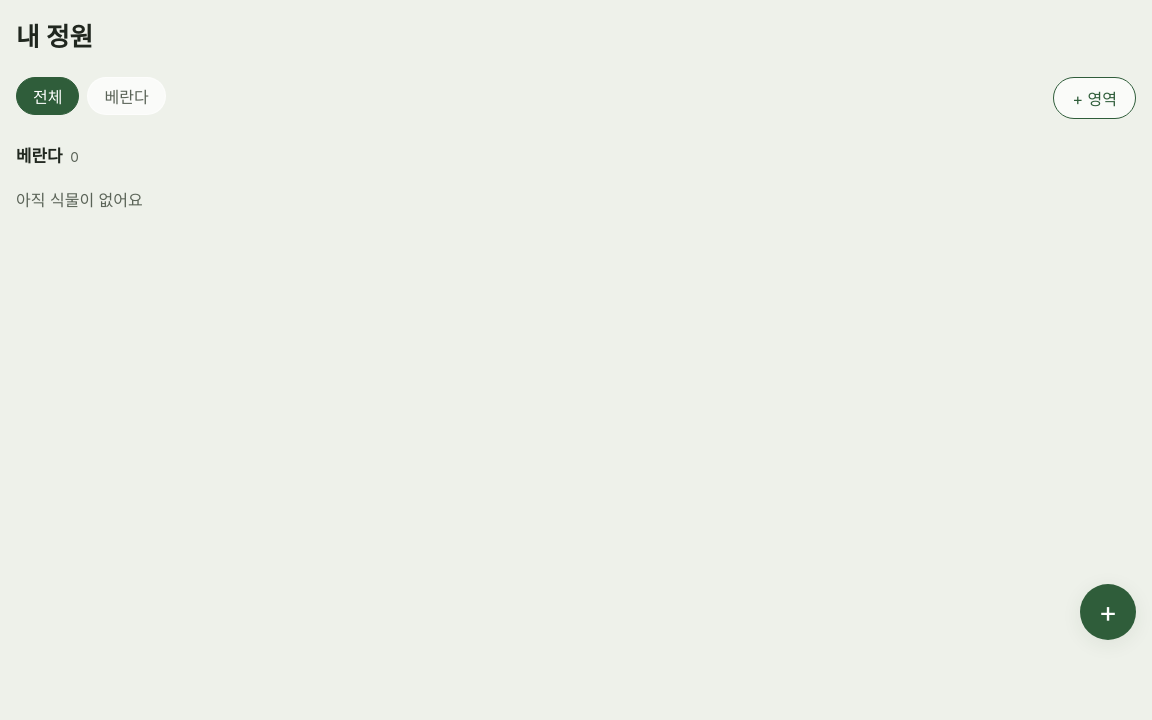
Test case: GardenView › 영역이 있으면 FAB로 식물을 추가해 카드가 나타난다
The image size is (1152, 720).
Click the button named "식물 추가" at x=1108, y=612, box top-left (1080, 584), bottom-right (1136, 640)
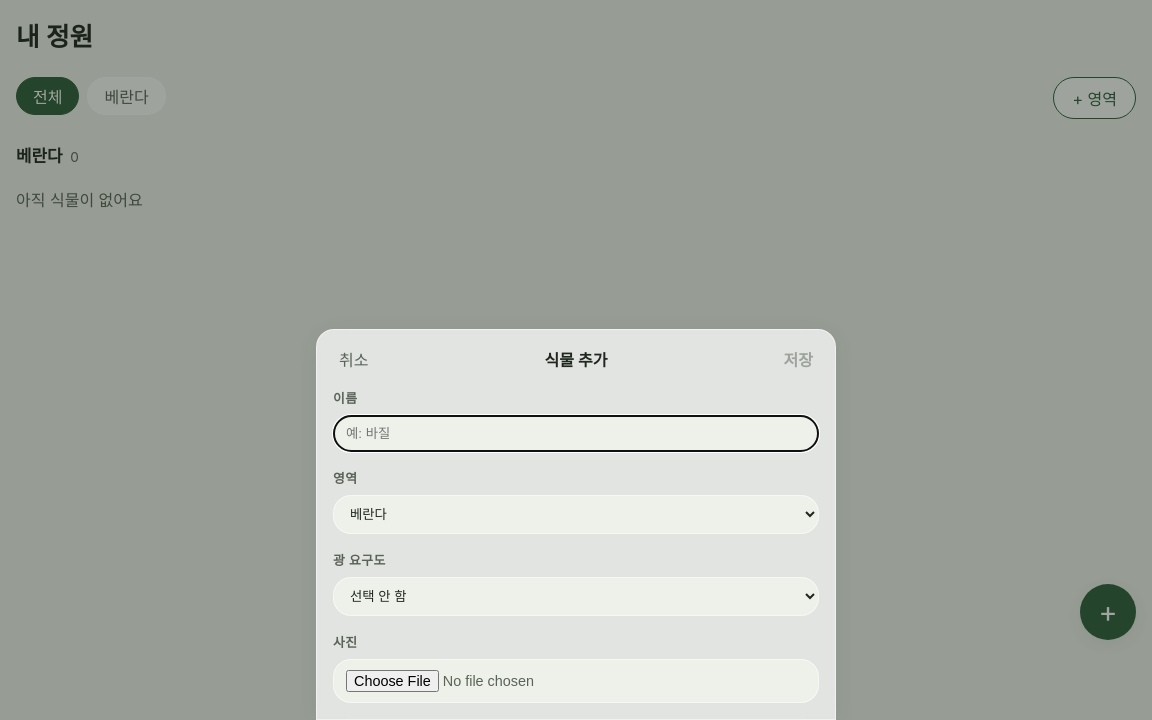
Type "바질" into the field labelled "이름" at x=576, y=434, box top-left (333, 415), bottom-right (819, 452)
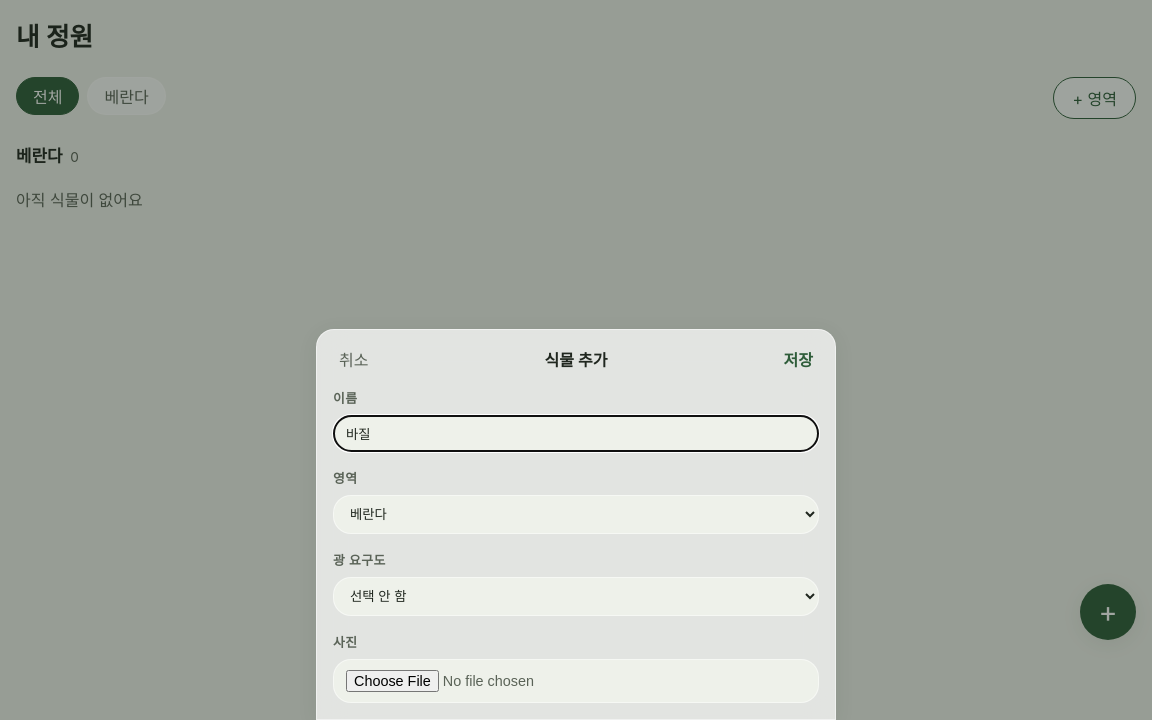
Click the button "저장" at x=798, y=359, box top-left (778, 346), bottom-right (819, 372)
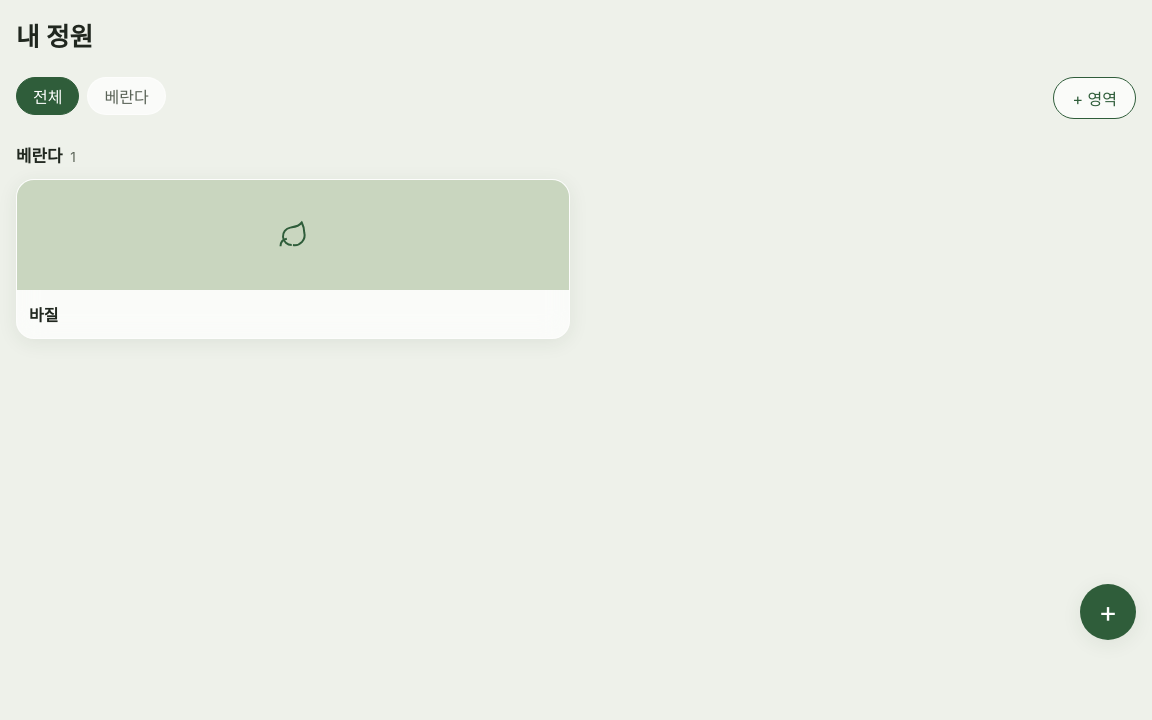
Expected: the text "바질" is shown, top-left (29, 305), bottom-right (58, 325)
